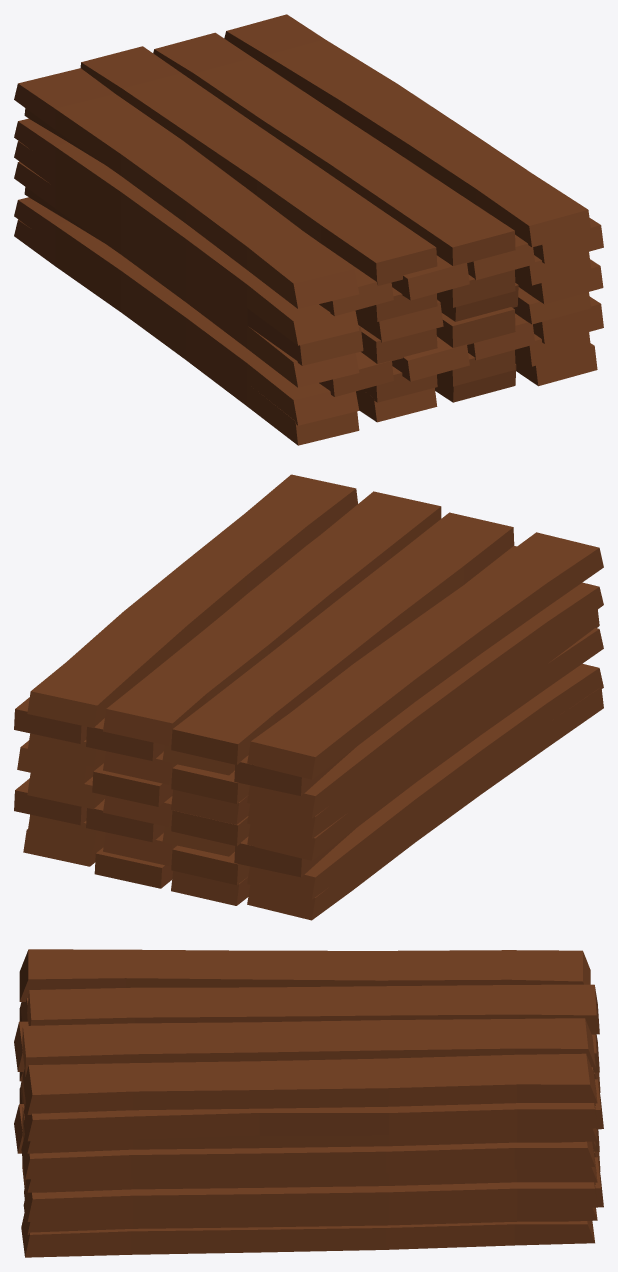
The model's file is Planks3.fbx.
3 renders of one model, top to bottom at view 1: azimuth 30°, elevation 25°; view 2: azimuth 150°, elevation 25°; view 3: azimuth 270°, elevation 25°, orthographic. The views are drawn at different scales.
Visible parts, largest first — view 1: Stacked_planks; view 2: Stacked_planks; view 3: Stacked_planks.
Part boxes in pixels (x1,y1,x2,y2): Stacked_planks: [14, 14, 603, 445]; Stacked_planks: [14, 474, 603, 920]; Stacked_planks: [14, 949, 603, 1257].
Bounding box in the file's own units: 78.91 × 38.82 × 129.
